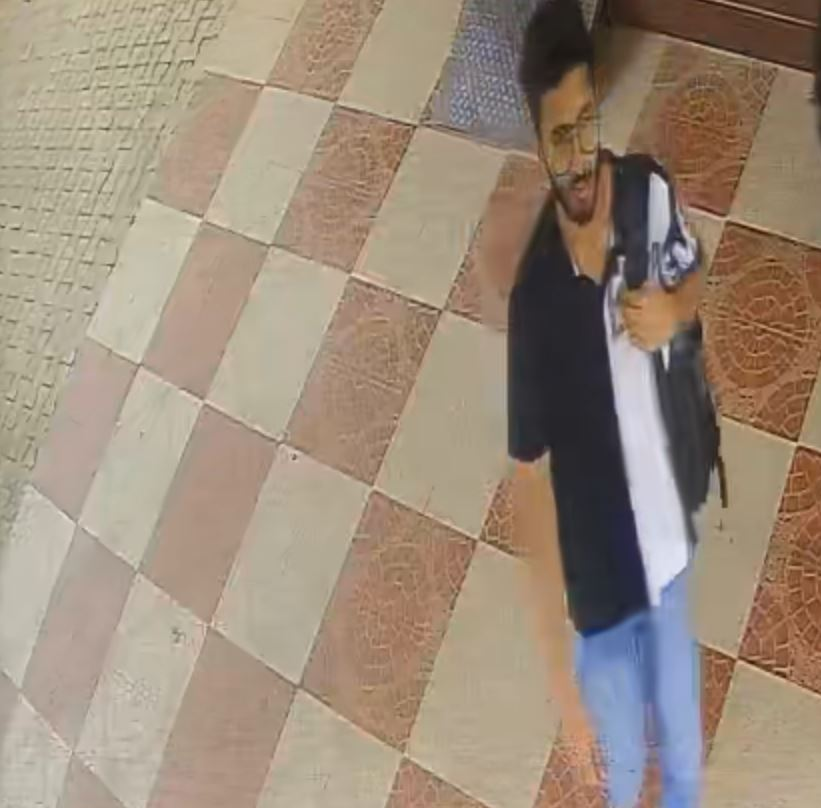intruder: (498, 4, 727, 791)
